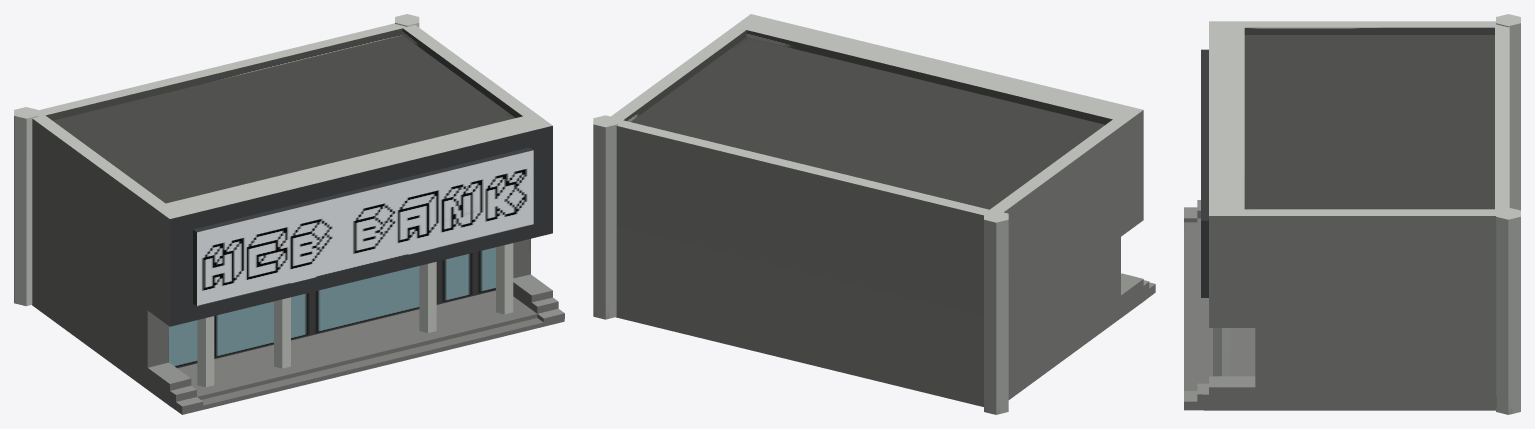
File: Bank.fbx
3 views of the same model, side by side, from view 1: azimuth 30°, elevation 25°; view 2: azimuth 150°, elevation 25°; view 3: azimuth 270°, elevation 25° (orthographic). The views are drawn at different scales.
Visible parts, largest first — view 1: Bank2.001; view 2: Bank2.001; view 3: Bank2.001.
Part boxes in pixels (x1=…): Bank2.001: x1=14, y1=14, x2=564, y2=414; Bank2.001: x1=593, y1=14, x2=1155, y2=414; Bank2.001: x1=1184, y1=14, x2=1520, y2=414.
Bounding box in the file's own units: 1057 × 469 × 732.
